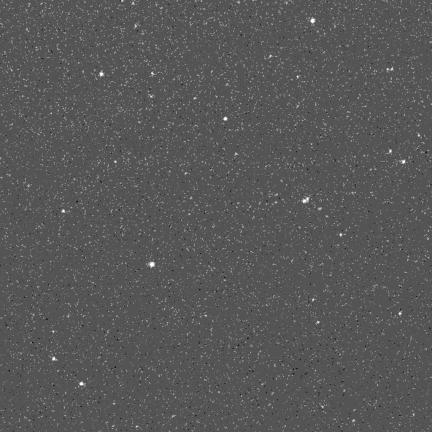blob: (99, 71, 105, 77), (303, 197, 309, 203), (148, 262, 155, 267), (311, 18, 315, 24), (62, 209, 66, 214), (52, 357, 56, 361), (80, 382, 84, 386), (114, 160, 118, 164), (340, 233, 343, 238), (224, 117, 227, 121), (389, 149, 392, 153), (402, 160, 405, 163)
